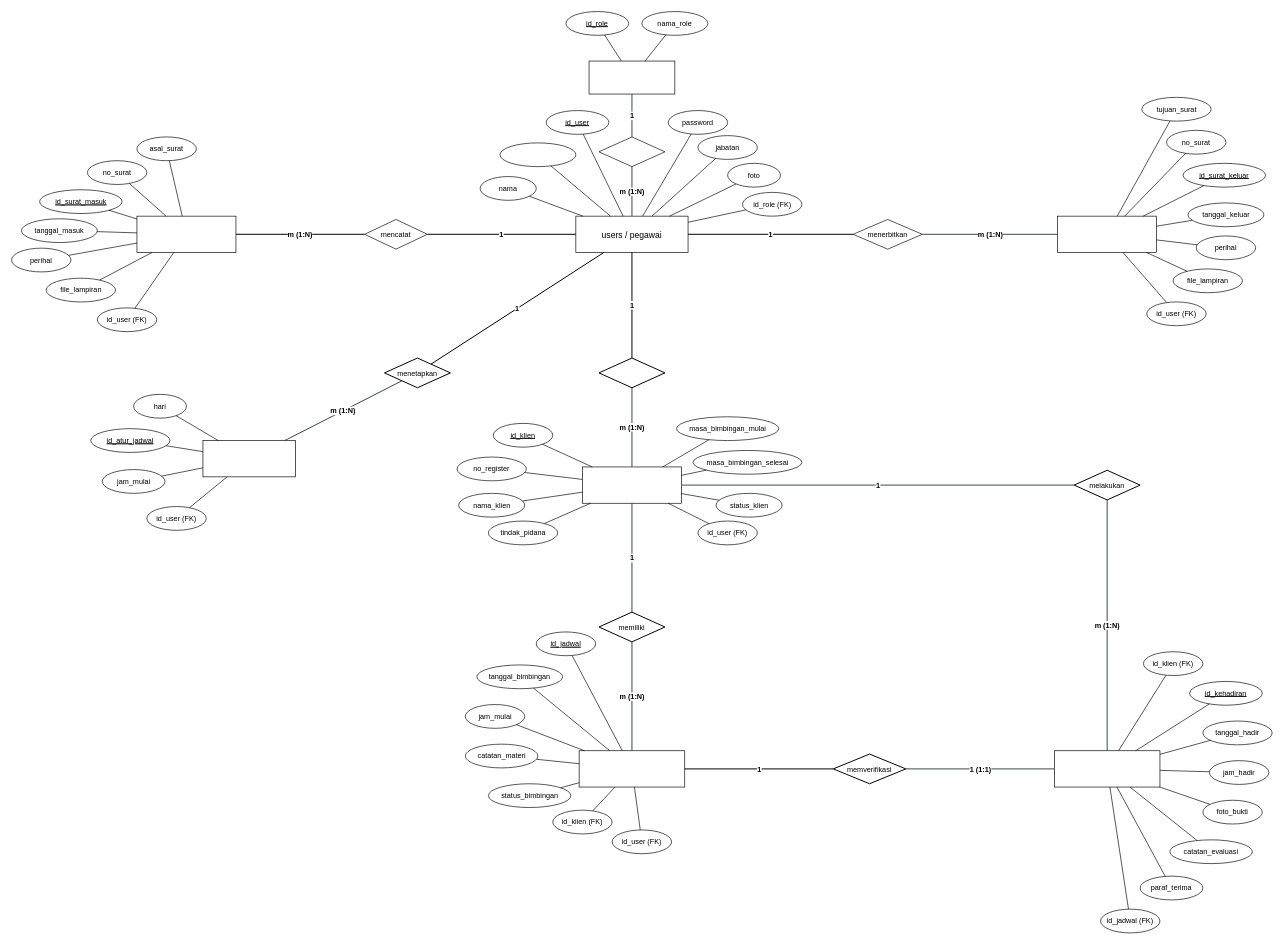
The diagram is 1284 pixels wide and 944 high, and some of its shapes have lost their labels. The box of each missing label's shape, as (x1, y1, x2, y2) in pixels:
atur_jadwal: (202, 440, 295, 477)
jadwal_bimbingan: (578, 750, 685, 787)
kehadiran_klien: (1054, 750, 1160, 787)
klien: (582, 466, 681, 503)
membimbing: (598, 357, 665, 388)
mempunyai: (598, 136, 665, 167)
nip (Username): (499, 142, 576, 167)
role: (588, 60, 675, 94)
surat_keluar: (1057, 215, 1157, 252)
surat_masuk: (136, 215, 236, 252)
